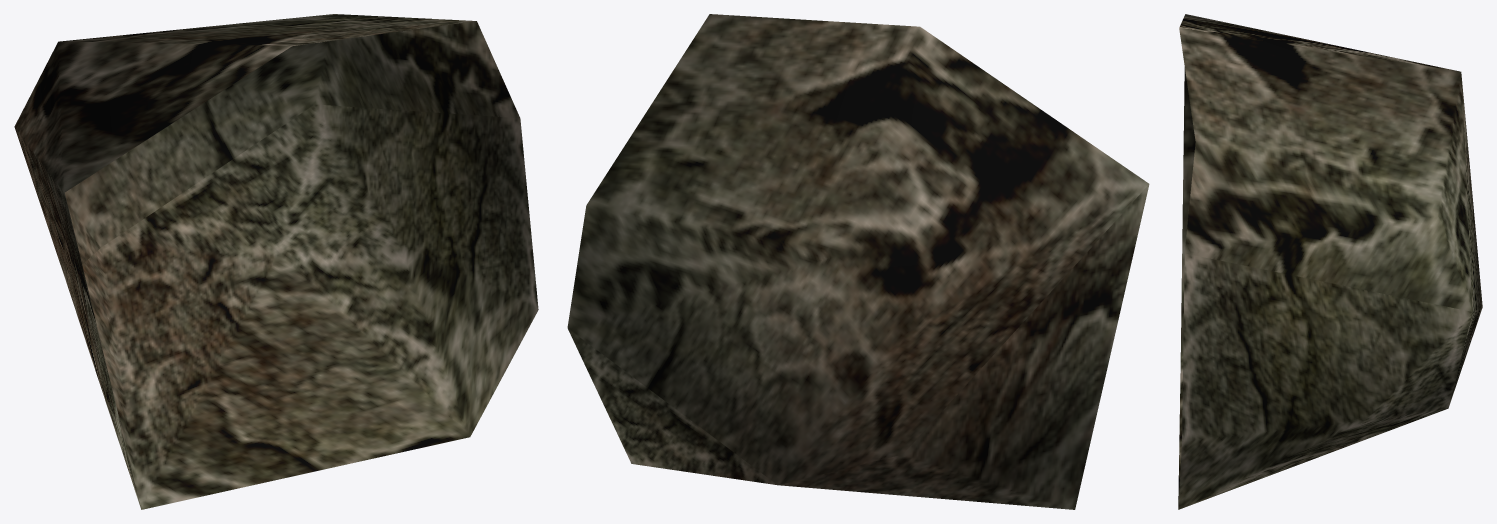
The model's file is MEP_Stones_01_d.fbx.
3 views of the same model, side by side, from view 1: azimuth 30°, elevation 25°; view 2: azimuth 150°, elevation 25°; view 3: azimuth 270°, elevation 25° (orthographic). The views are drawn at different scales.
Parts seen in each view (by area): view 1: MEP_Stone_01_d; view 2: MEP_Stone_01_d; view 3: MEP_Stone_01_d.
Part boxes in pixels (box(x1,y1,x2,y2)): MEP_Stone_01_d: box(14, 14, 538, 509); MEP_Stone_01_d: box(567, 14, 1149, 509); MEP_Stone_01_d: box(1178, 14, 1482, 509).
Size of the model in its own units: 1.1 by 0.9689 by 0.6655.
